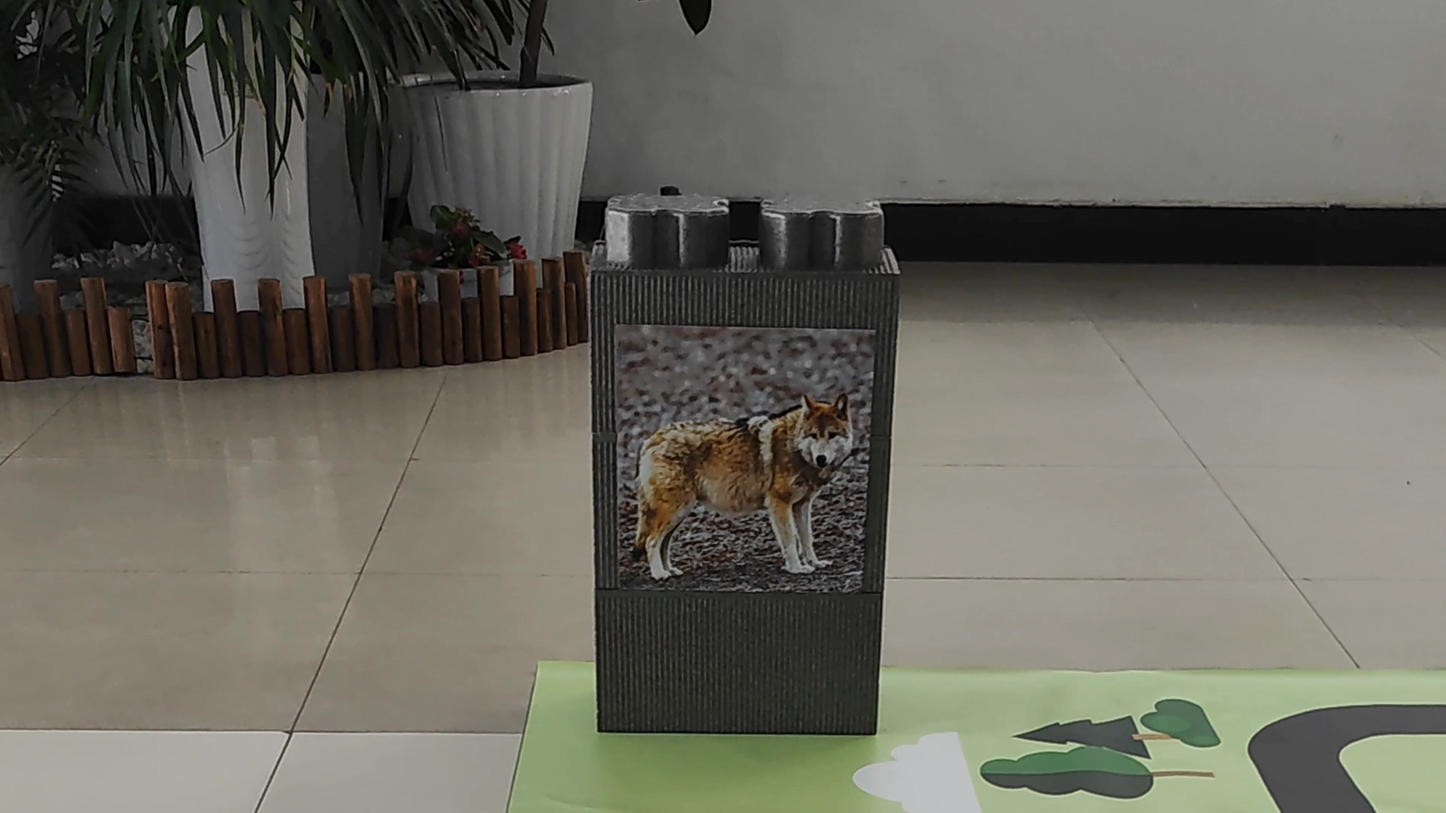wolf: (624, 354, 865, 597)
